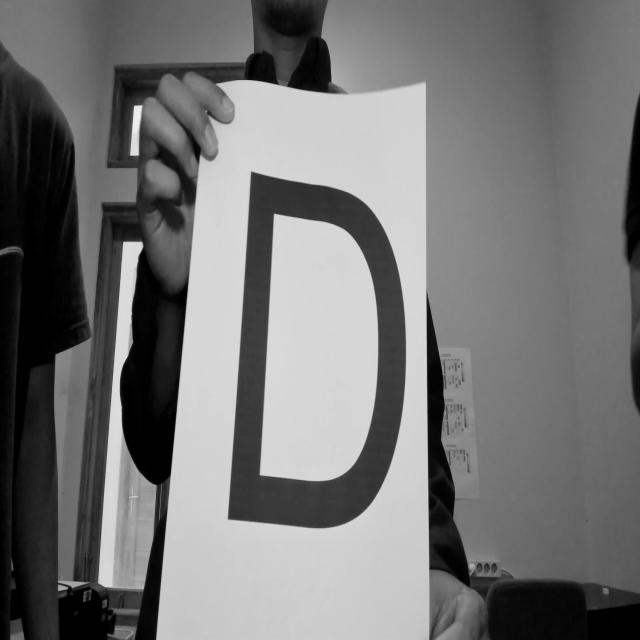d: (222, 154, 420, 556)
